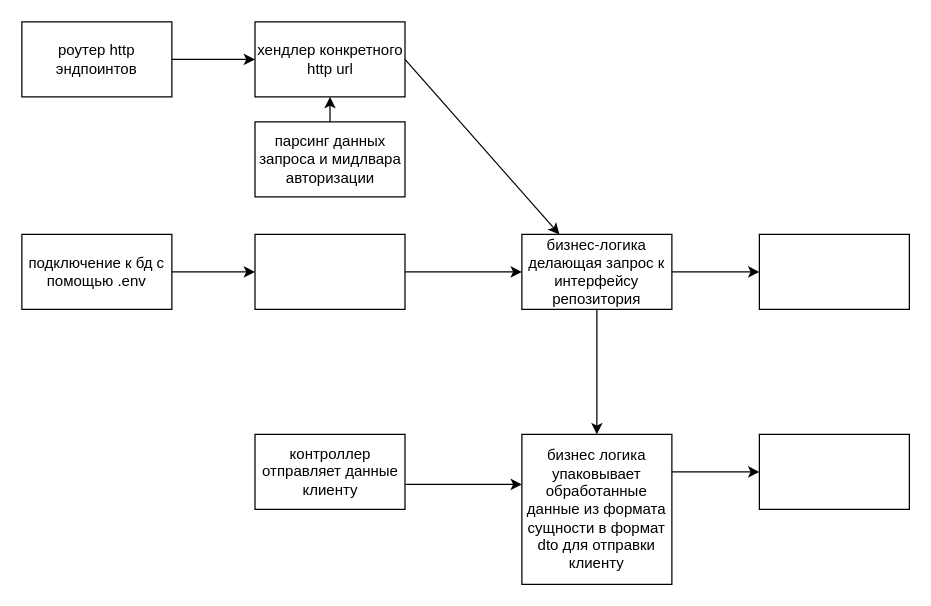
Some shapes in this 931 by 606 pixel diagram are drawn without their labels. Here are the shapes that lost their labels. From the top down, the centre of each, then its label:
At pixel 329 271: "репозиторий sql запросов к бд с параметризацией".
At pixel 833 271: "сущности для бизнес логики".
At pixel 833 471: "dto формат для интерфейса контроллера".
